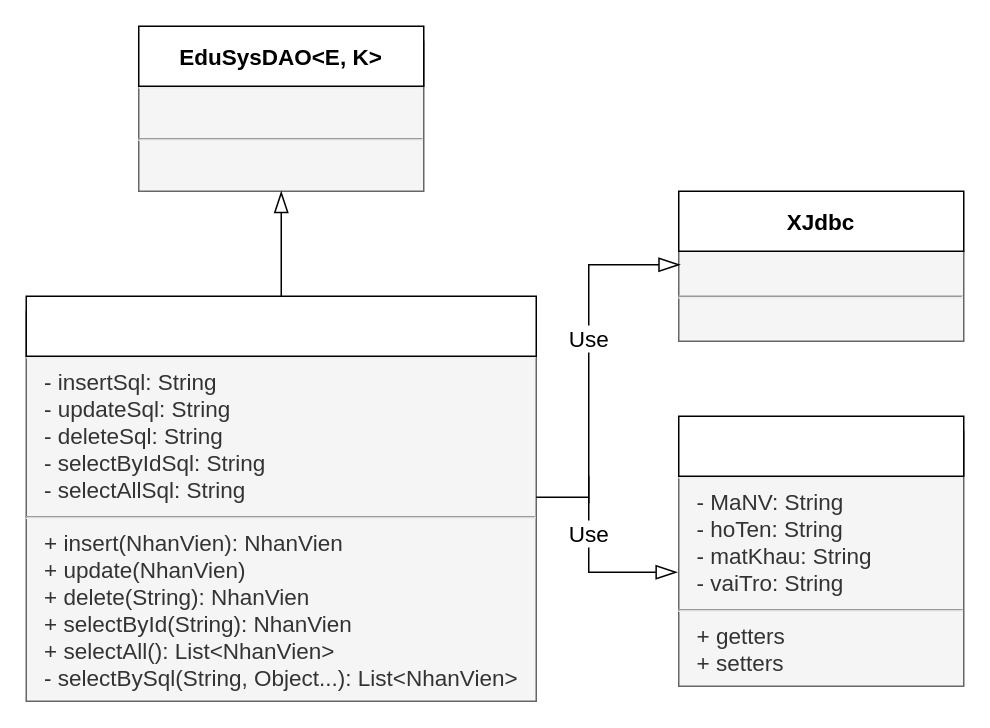
The diagram is 990 pixels wide and 728 high, and some of its shapes have lost their labels. Each missing label, with the box of its shape:
NhanVien: (677, 415, 964, 476)
NhanVienDAO: (25, 295, 536, 356)
